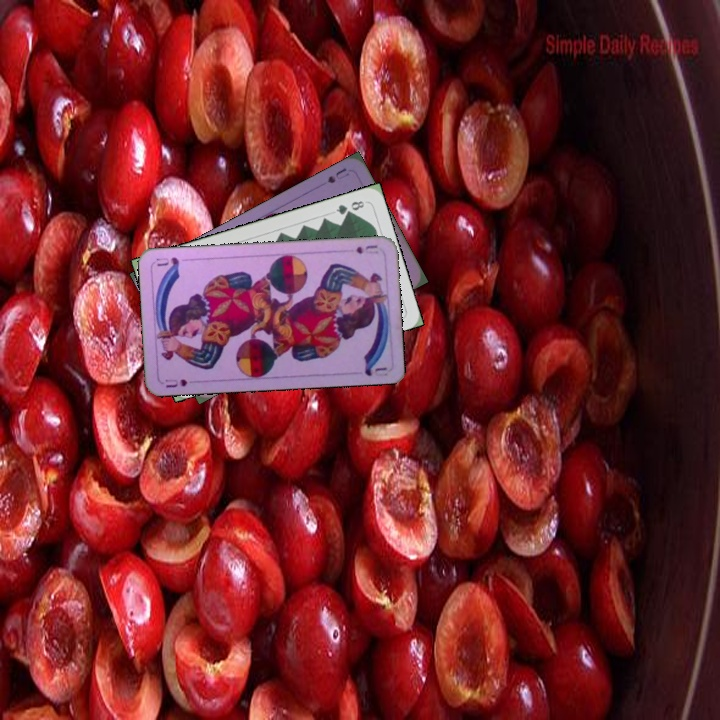G8: (332, 197, 367, 217)
SU: (323, 164, 352, 186), (161, 375, 200, 390), (352, 241, 381, 257)
